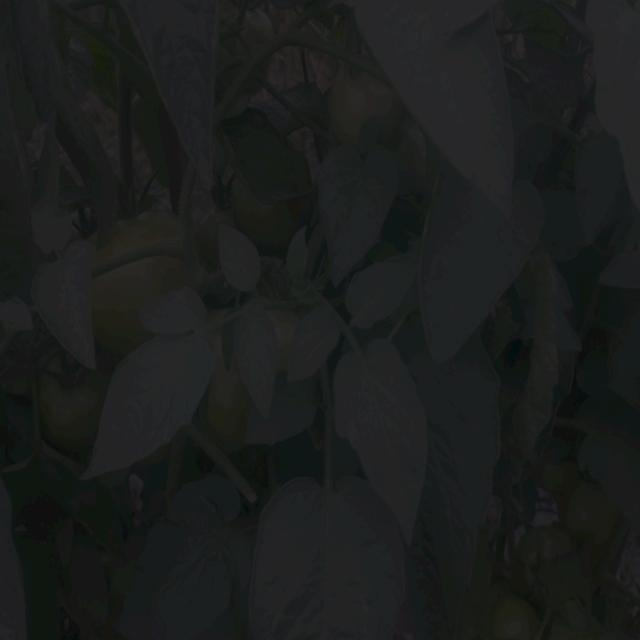tomato: (98, 216, 184, 296), (39, 361, 99, 453), (563, 474, 616, 552), (337, 71, 392, 138), (237, 186, 292, 249), (214, 365, 249, 456), (493, 577, 540, 640), (519, 528, 576, 567), (540, 455, 574, 491)
